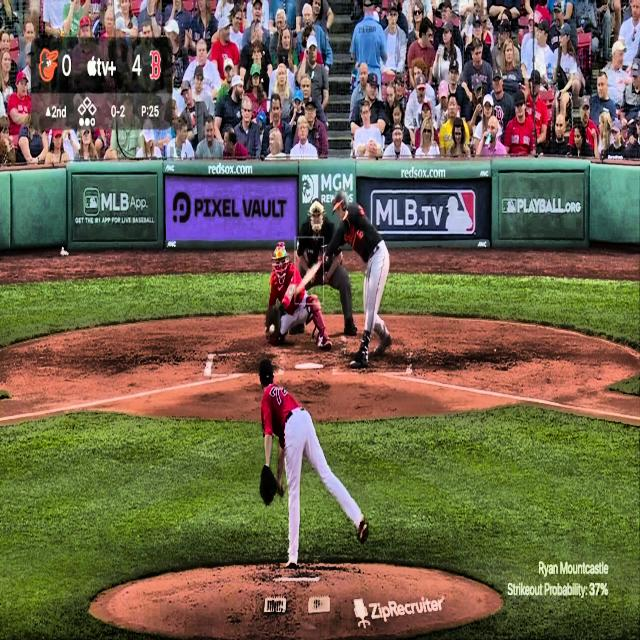baseball: (268, 323, 276, 335)
